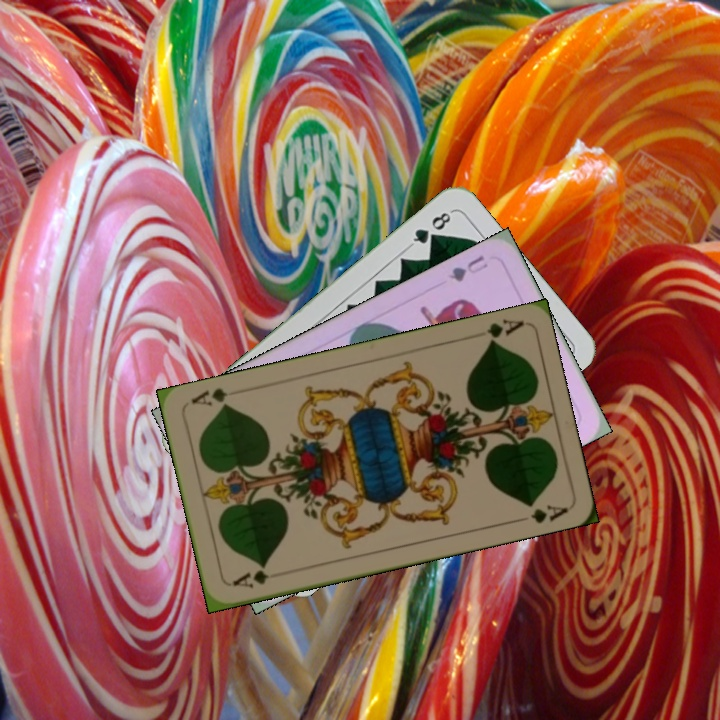G8: (406, 207, 455, 250)
GA: (228, 563, 286, 591), (482, 315, 525, 347)
GU: (444, 250, 491, 285)
